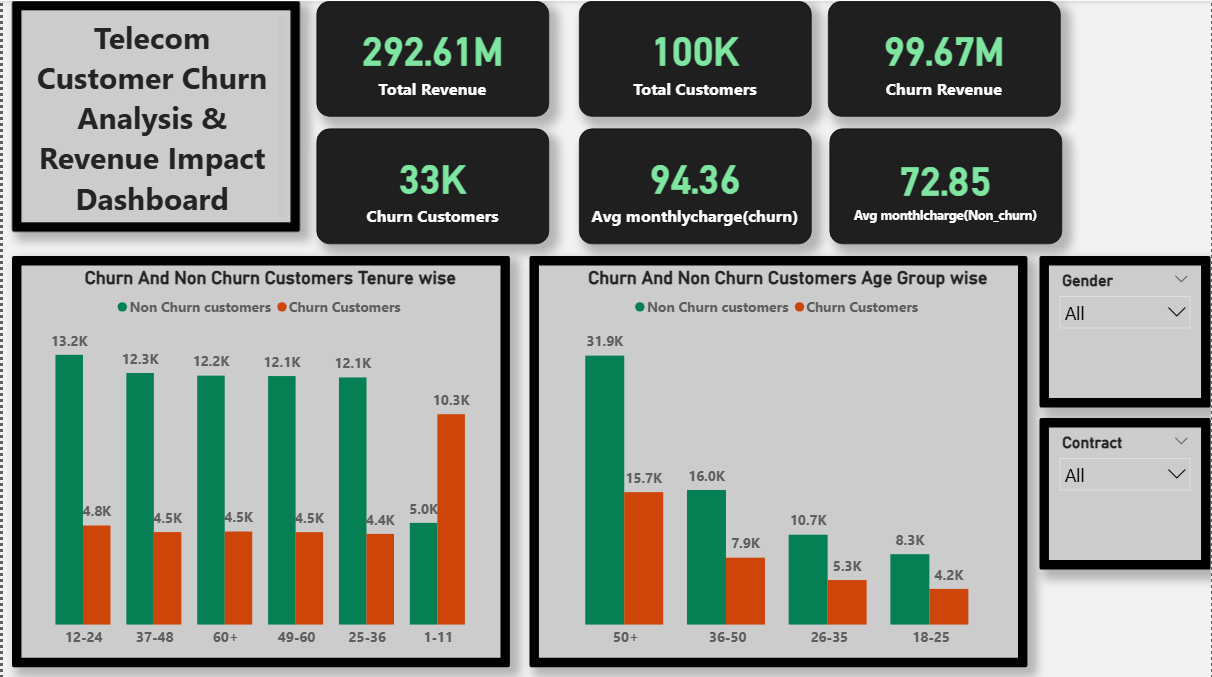

The dashboard page shown, as its layout file describes it:
{"tool":"powerbi","page":{"name":"Churn Overview","canvas":[1280,720],"ordinal":0},"visuals":[{"type":"textbox","box":[9.5,0,305.4,245],"z":0},{"type":"card","fields":{"Values":["telecome telecom_churn.Total Revenue"]},"box":[332.4,0,246.5,122.5],"z":1000},{"type":"card","fields":{"Values":["telecome telecom_churn.Total Customers"]},"box":[610.8,0,246.5,122.5],"z":2000},{"type":"card","fields":{"Values":["telecome telecom_churn.Churn Revenue"]},"box":[874.8,0,246.5,122.5],"z":3000},{"type":"card","fields":{"Values":["telecome telecom_churn.Churn Customers"]},"box":[332.4,135.2,246.5,122.5],"z":4000},{"type":"card","fields":{"Values":["telecome telecom_churn.Avg monthly charge for churn"]},"box":[610.8,135.2,246.5,122.5],"z":5000},{"type":"card","fields":{"Values":["telecome telecom_churn.Avg monthlcharge(Non_churn)"]},"box":[876.4,135.2,246.5,122.5],"z":6000},{"type":"clusteredColumnChart","title":"Churn And Non Churn Customers Tenure wise","fields":{"Category":["telecome telecom_churn.Tenure Group"],"Y":["telecome telecom_churn.Non Churn customers","telecome telecom_churn.Churn Customers"]},"box":[9.5,270.4,528.1,435.8],"z":7000},{"type":"clusteredColumnChart","title":"Churn And Non Churn Customers Age Group wise","fields":{"Y":["telecome telecom_churn.Non Churn customers","telecome telecom_churn.Churn Customers"],"Category":["telecome telecom_churn.Age Group"]},"box":[558.3,270.4,528.1,435.8],"z":8000},{"type":"slicer","fields":{"Values":["telecome telecom_churn.Gender"]},"box":[1099.1,270.4,181.3,160.7],"z":9000},{"type":"slicer","fields":{"Values":["telecome telecom_churn.Contract"]},"box":[1099.1,442.2,181.3,160.7],"z":10000}]}

Visuals, with their boxes in screenshot pixels (x1, y1, x2, y2), scaled from the page's 1280x720 canvas onto the 1212x677 screenshot:
textbox: crop(9, 0, 298, 230)
card - telecome telecom_churn.Total Revenue: crop(315, 0, 548, 115)
card - telecome telecom_churn.Total Customers: crop(578, 0, 812, 115)
card - telecome telecom_churn.Churn Revenue: crop(828, 0, 1062, 115)
card - telecome telecom_churn.Churn Customers: crop(315, 127, 548, 242)
card - telecome telecom_churn.Avg monthly charge for churn: crop(578, 127, 812, 242)
card - telecome telecom_churn.Avg monthlcharge(Non_churn): crop(830, 127, 1063, 242)
"Churn And Non Churn Customers Tenure wise" clusteredColumnChart: crop(9, 254, 509, 664)
"Churn And Non Churn Customers Age Group wise" clusteredColumnChart: crop(529, 254, 1029, 664)
slicer - telecome telecom_churn.Gender: crop(1041, 254, 1211, 405)
slicer - telecome telecom_churn.Contract: crop(1041, 416, 1211, 567)
